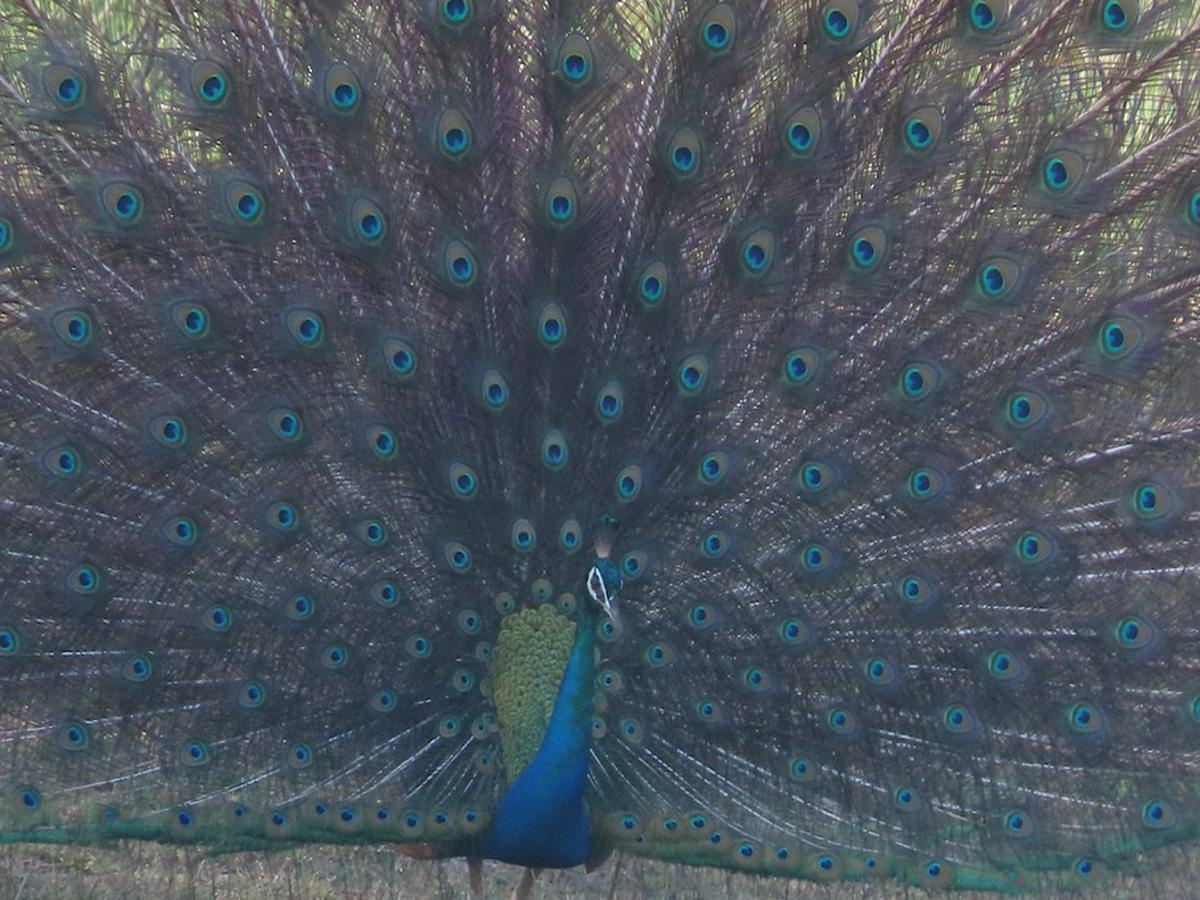peacock: (4, 1, 1200, 886)
